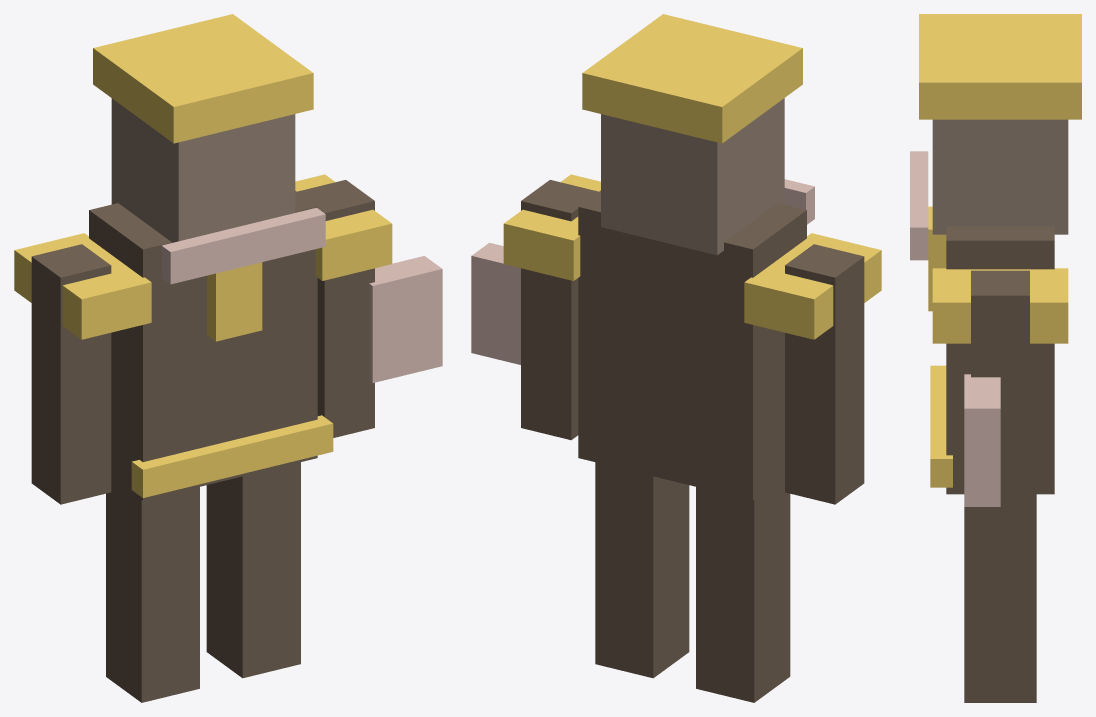
The model's file is 17_calder_spirebound_courier_from_turret.glb.
The picture shows the model from 3 angles, left to right: view 1: azimuth 30°, elevation 25°; view 2: azimuth 150°, elevation 25°; view 3: azimuth 270°, elevation 25°; orthographic projection.
Visible parts, largest first — view 1: Calder Spirebound, Courier from Turret; view 2: Calder Spirebound, Courier from Turret; view 3: Calder Spirebound, Courier from Turret.
Part boxes in pixels (x1,y1,x2,y2): Calder Spirebound, Courier from Turret: (14, 14, 442, 702); Calder Spirebound, Courier from Turret: (471, 14, 881, 702); Calder Spirebound, Courier from Turret: (910, 14, 1081, 702).
Size of the model in its own units: 0.9387 by 1.45 by 0.3658.
